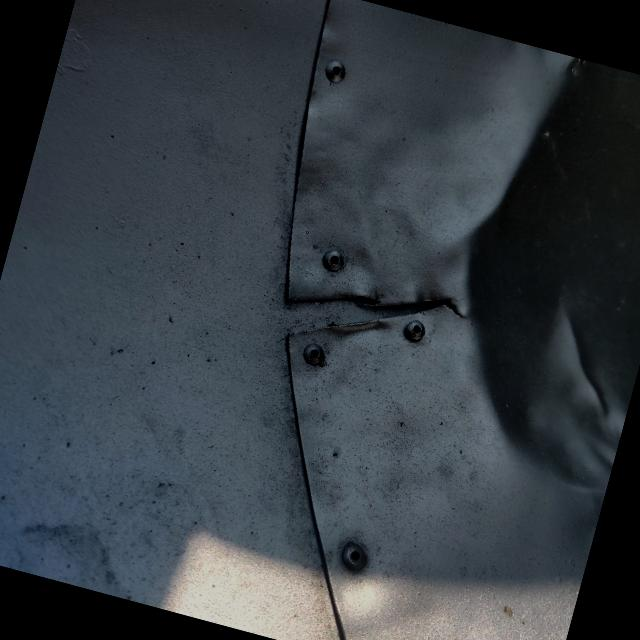dent: (371, 33, 640, 526)
